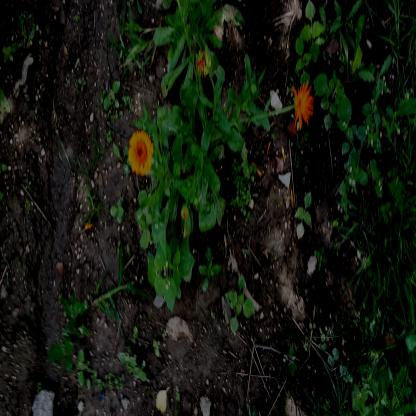marigold: (128, 132, 154, 175)
